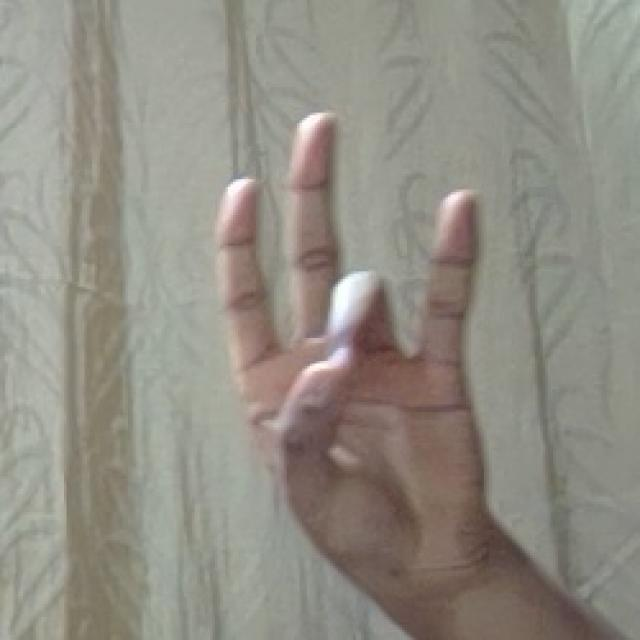Numeric-7: (210, 95, 500, 618)
